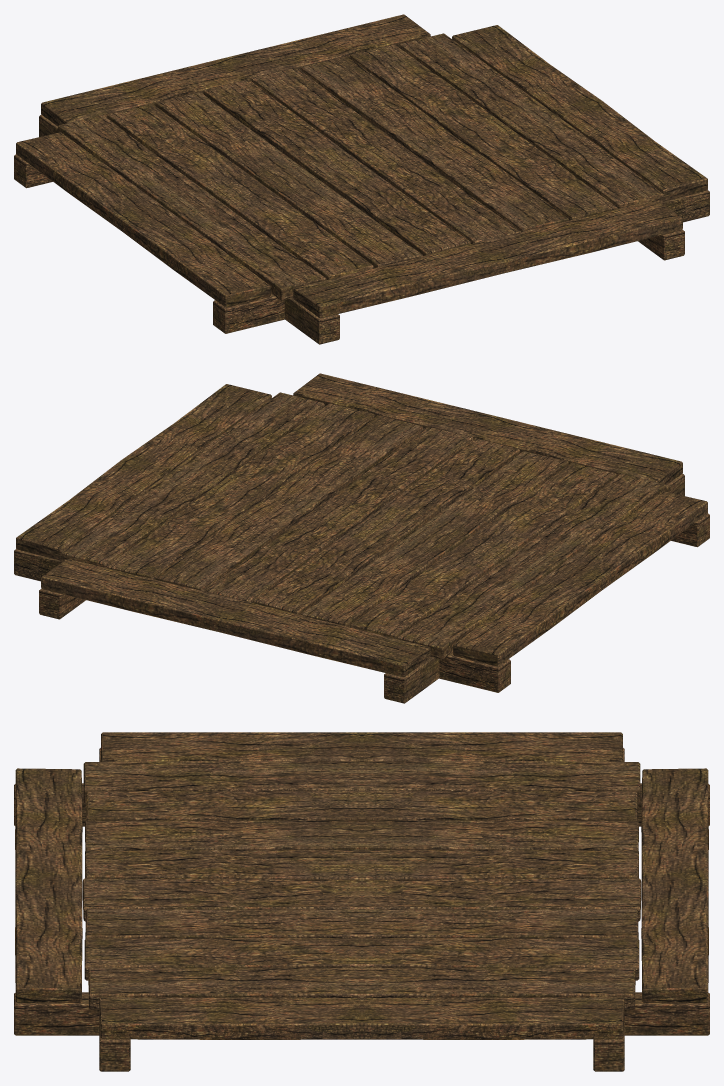
The model's file is Laufsteg_Kreuzung.gltf.
3 views of the same model, one above another, from view 1: azimuth 30°, elevation 25°; view 2: azimuth 150°, elevation 25°; view 3: azimuth 270°, elevation 25° (orthographic). The views are drawn at different scales.
Parts seen in each view (by area): view 1: Laufsteg_Kreuzung; view 2: Laufsteg_Kreuzung; view 3: Laufsteg_Kreuzung.
Boxes of the visible parts, x1,y1,x2,y2 form: Laufsteg_Kreuzung: [14, 14, 709, 344]; Laufsteg_Kreuzung: [14, 373, 709, 703]; Laufsteg_Kreuzung: [14, 732, 709, 1071].
Bounding box in the file's own units: 4 × 0.305 × 4.
1 material, 1 textured.
